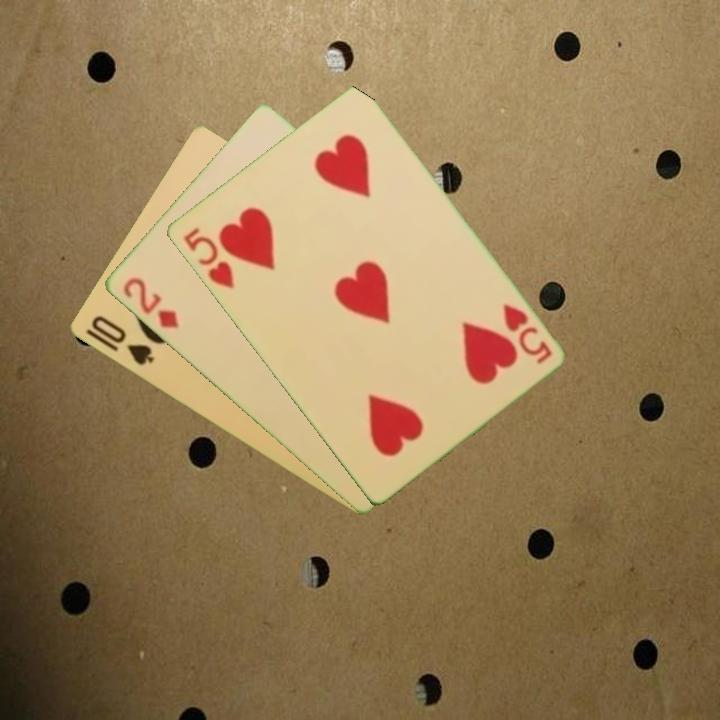10s: (87, 312, 157, 369)
2d: (119, 273, 181, 332)
5h: (179, 224, 237, 292), (498, 300, 554, 367)
